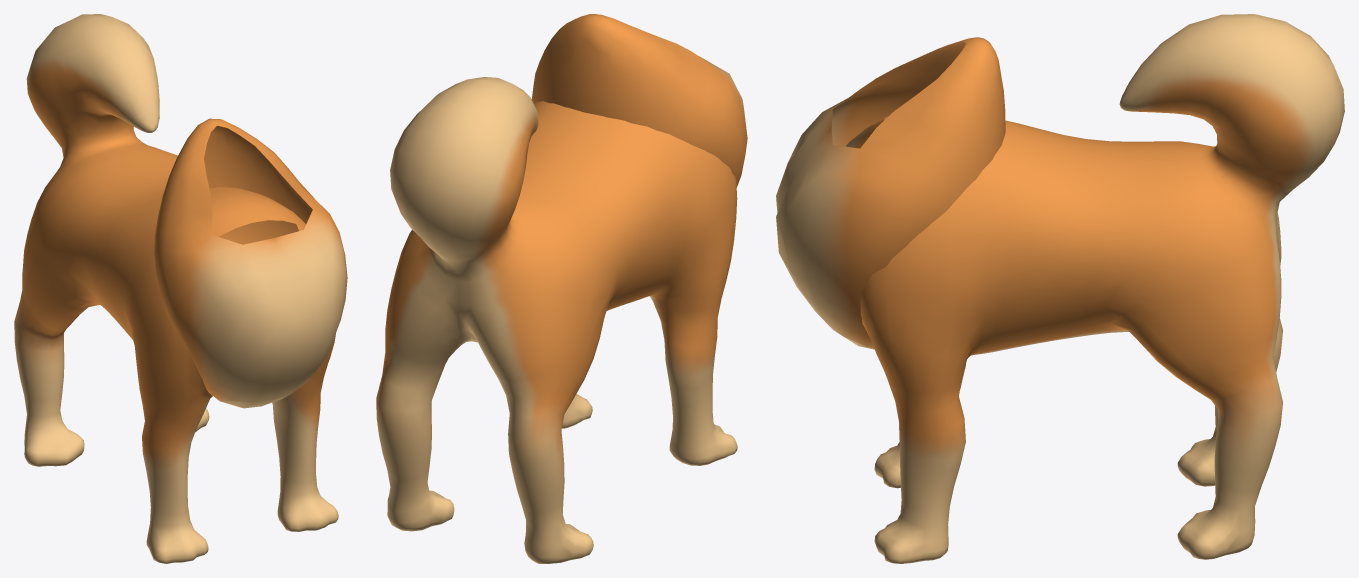
The model's file is perrito_cuerpo.obj.
3 renders of one model, left to right at view 1: azimuth 30°, elevation 25°; view 2: azimuth 150°, elevation 25°; view 3: azimuth 270°, elevation 25°, orthographic. The views are drawn at different scales.
Parts seen in each view (by area): view 1: Object001; view 2: Object001; view 3: Object001.
Part boxes in pixels (bbox=[...]): Object001: bbox=[14, 14, 347, 563]; Object001: bbox=[376, 14, 747, 563]; Object001: bbox=[776, 14, 1344, 563].
Bounding box in the file's own units: 0.8132 × 1.76 × 1.84.
1 material, 1 textured.
